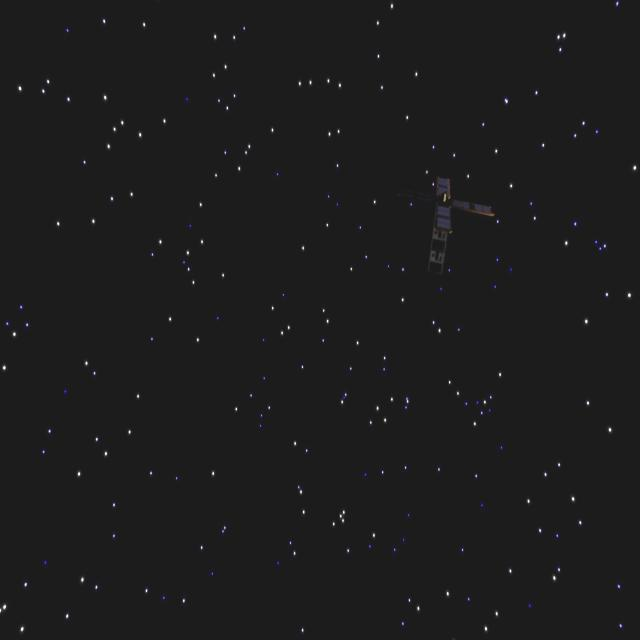medium_debris: (409, 172, 501, 280)
